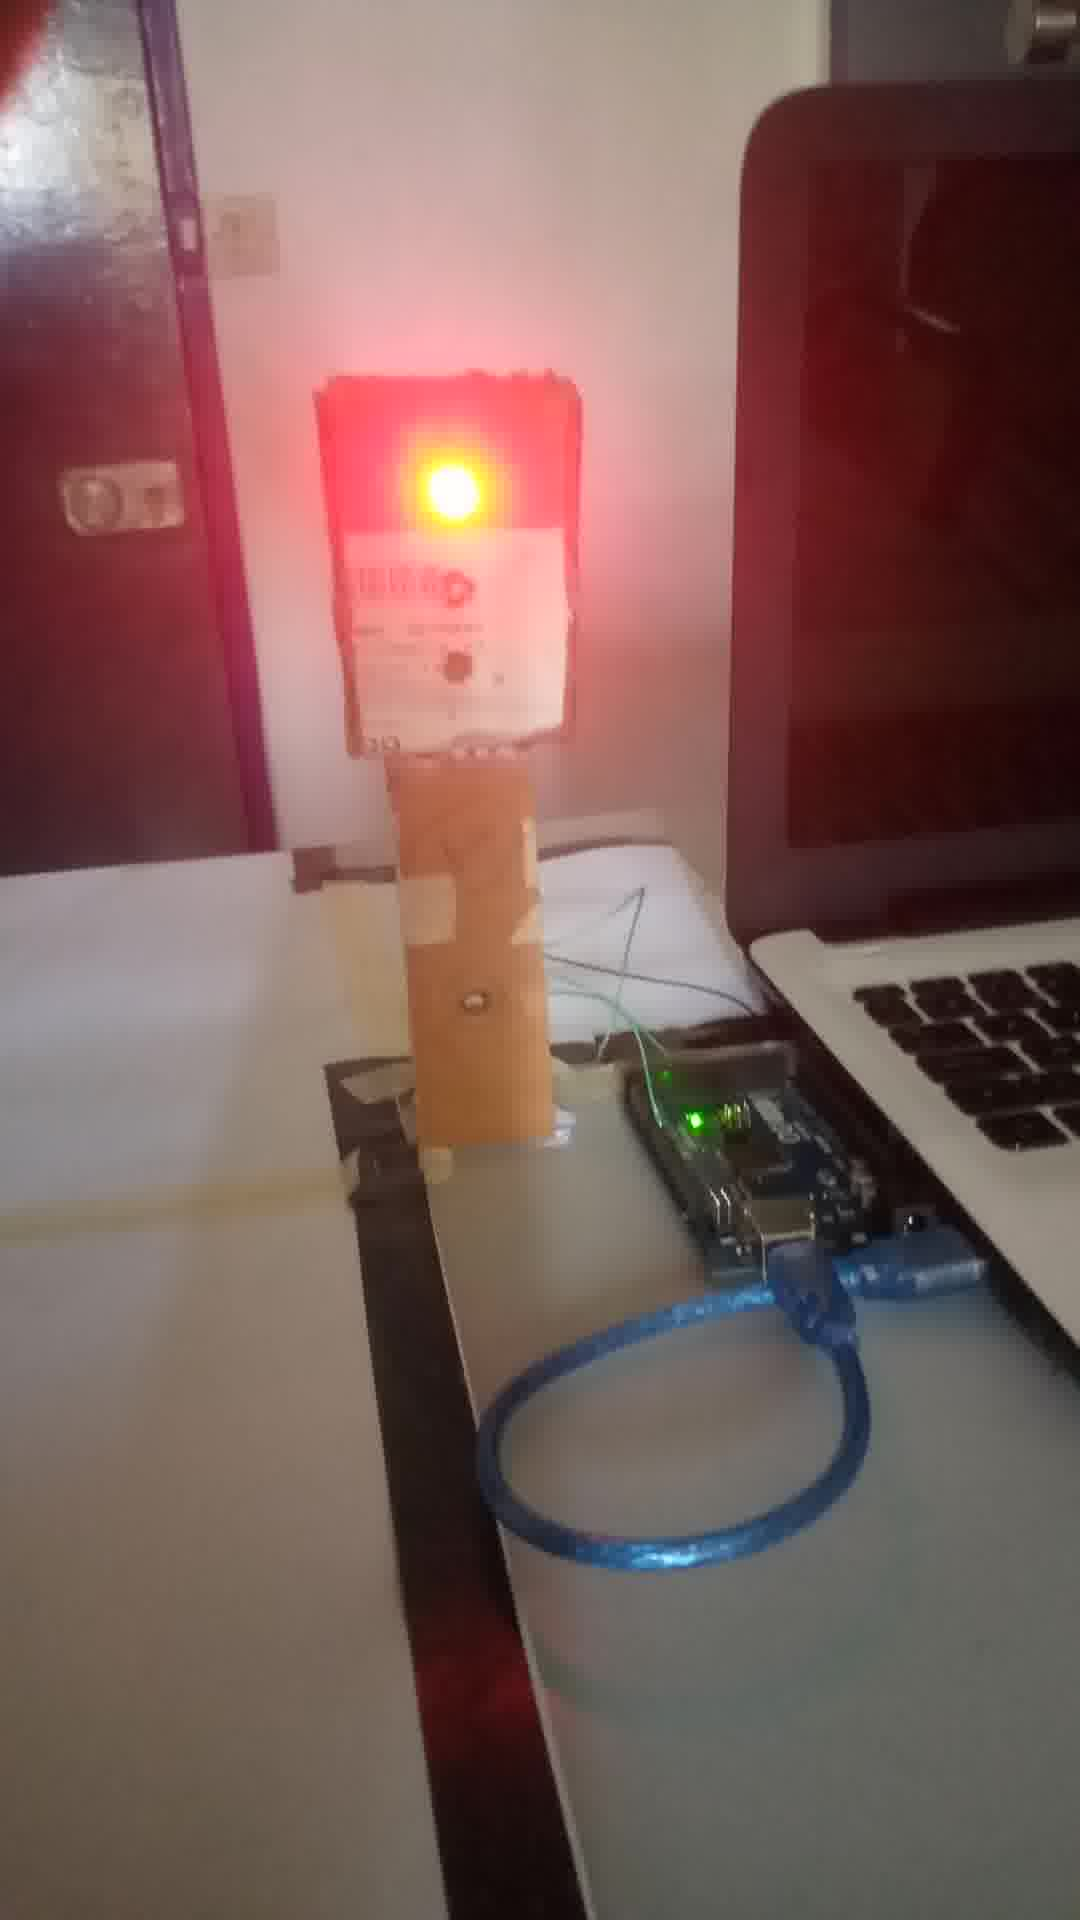red: (324, 400, 560, 764)
